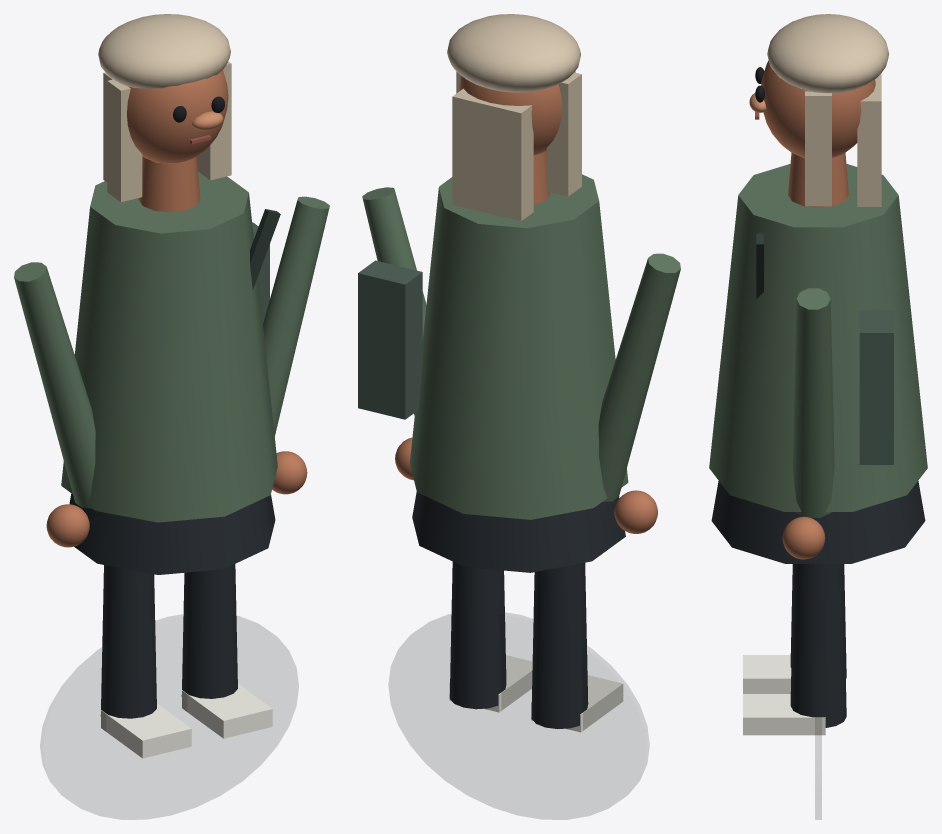
Rendered from customer_05.glb.
3 views of the same model, side by side, from view 1: azimuth 30°, elevation 25°; view 2: azimuth 150°, elevation 25°; view 3: azimuth 270°, elevation 25° (orthographic). The views are drawn at different scales.
Parts seen in each view (by area): view 1: torso, contact_shadow, skirt, arm_-0.255, leg_-0.095, hair_cap, leg_0.095, arm_0.255, head, side_hair_-0.105, shoe_0.095, shoe_-0.095 (+6 smaller); view 2: torso, contact_shadow, skirt, shoulder_bag, back_hair, arm_-0.255, leg_-0.095, hair_cap, leg_0.095, side_hair_-0.105, arm_0.255, head (+4 smaller); view 3: torso, skirt, arm_0.255, leg_0.095, hair_cap, shoulder_bag, head, side_hair_0.105, back_hair, shoe_0.095, shoe_-0.095, neck (+3 smaller).
Part boxes in pixels (bbox=[...]): torso: bbox=[61, 171, 277, 522]; contact_shadow: bbox=[40, 614, 298, 819]; skirt: bbox=[69, 493, 275, 574]; arm_-0.255: bbox=[14, 262, 95, 508]; leg_-0.095: bbox=[100, 565, 156, 718]; hair_cap: bbox=[98, 14, 230, 88]; leg_0.095: bbox=[181, 564, 237, 698]; arm_0.255: bbox=[263, 196, 329, 436]; head: bbox=[127, 70, 228, 163]; side_hair_-0.105: bbox=[107, 79, 142, 202]; shoe_0.095: bbox=[182, 684, 272, 738]; shoe_-0.095: bbox=[101, 703, 191, 758]; torso: bbox=[410, 174, 628, 519]; contact_shadow: bbox=[389, 612, 649, 819]; skirt: bbox=[412, 492, 625, 572]; shoulder_bag: bbox=[358, 260, 422, 419]; back_hair: bbox=[452, 88, 533, 221]; arm_-0.255: bbox=[598, 253, 680, 501]; leg_-0.095: bbox=[531, 562, 588, 728]; hair_cap: bbox=[447, 14, 580, 92]; leg_0.095: bbox=[449, 562, 506, 709]; side_hair_-0.105: bbox=[546, 72, 581, 196]; arm_0.255: bbox=[362, 187, 426, 415]; head: bbox=[459, 71, 575, 155]; torso: bbox=[709, 164, 927, 511]; skirt: bbox=[711, 481, 925, 563]; arm_0.255: bbox=[792, 288, 834, 517]; leg_0.095: bbox=[790, 564, 846, 727]; hair_cap: bbox=[767, 14, 888, 93]; shoulder_bag: bbox=[859, 310, 893, 464]; head: bbox=[761, 60, 875, 157]; side_hair_0.105: bbox=[805, 91, 831, 206]; back_hair: bbox=[857, 73, 881, 206]; shoe_0.095: bbox=[743, 694, 825, 735]; shoe_-0.095: bbox=[743, 655, 791, 693]; neck: bbox=[788, 152, 848, 207].
Size of the model in its own units: 0.6996 by 1.69 by 0.432.
